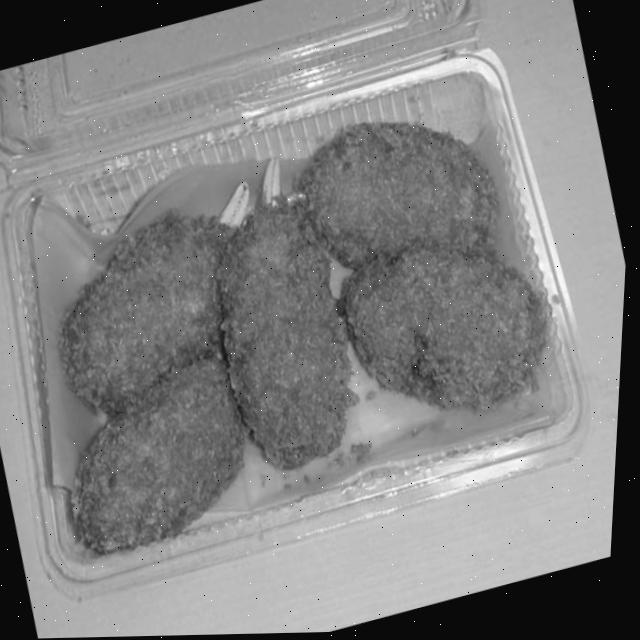炸货点心: (0, 78, 594, 577)
